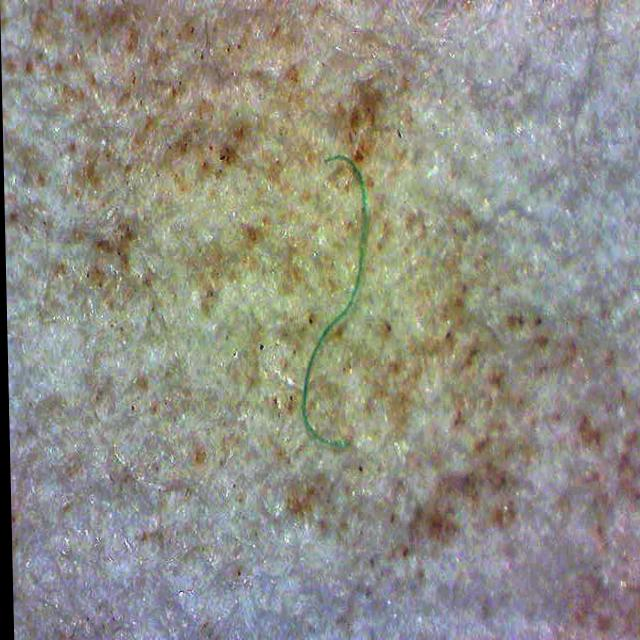microplastic: (296, 152, 374, 448)
